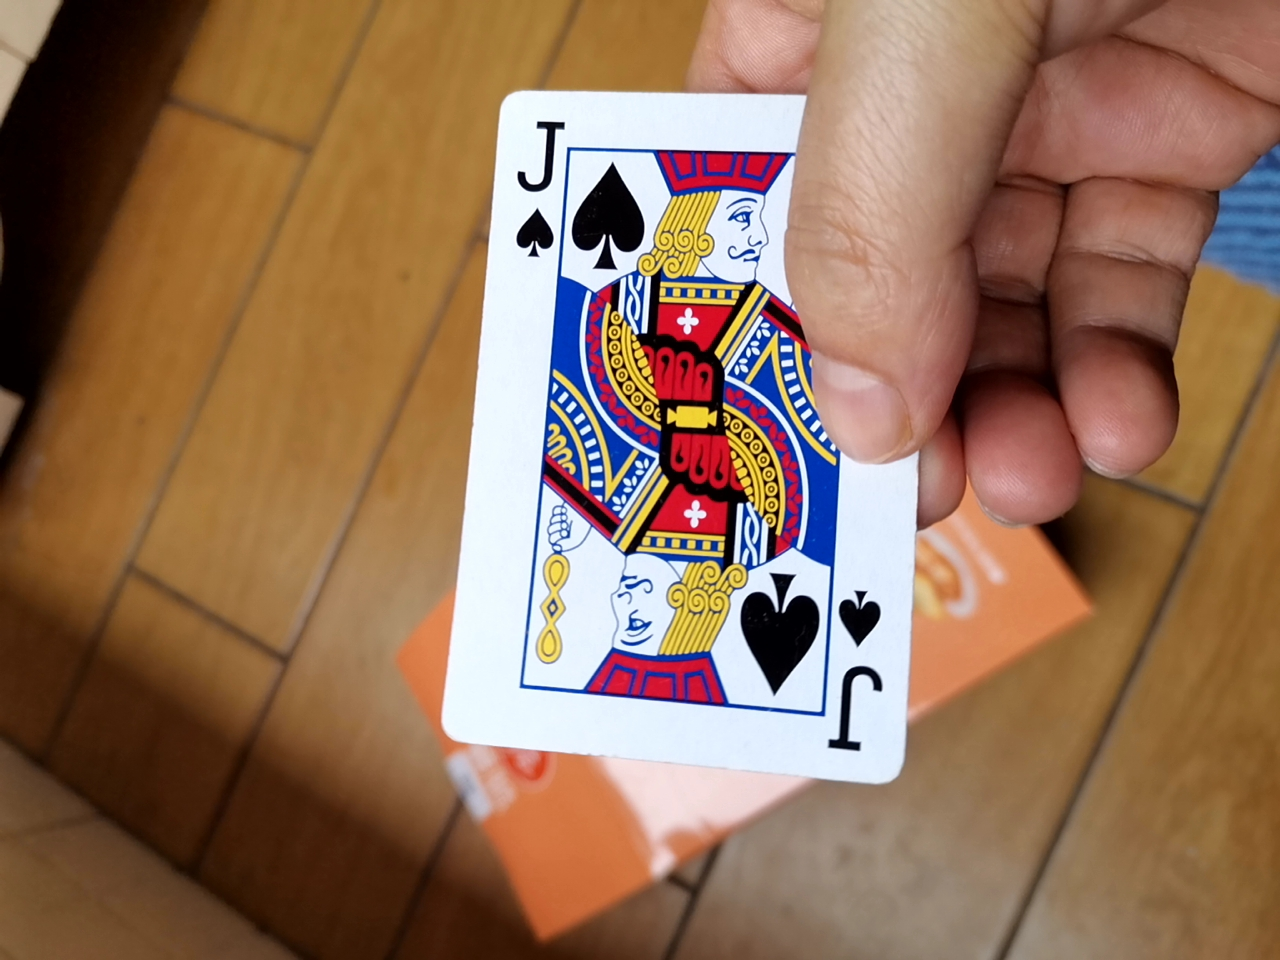ht j: (446, 87, 902, 802)
